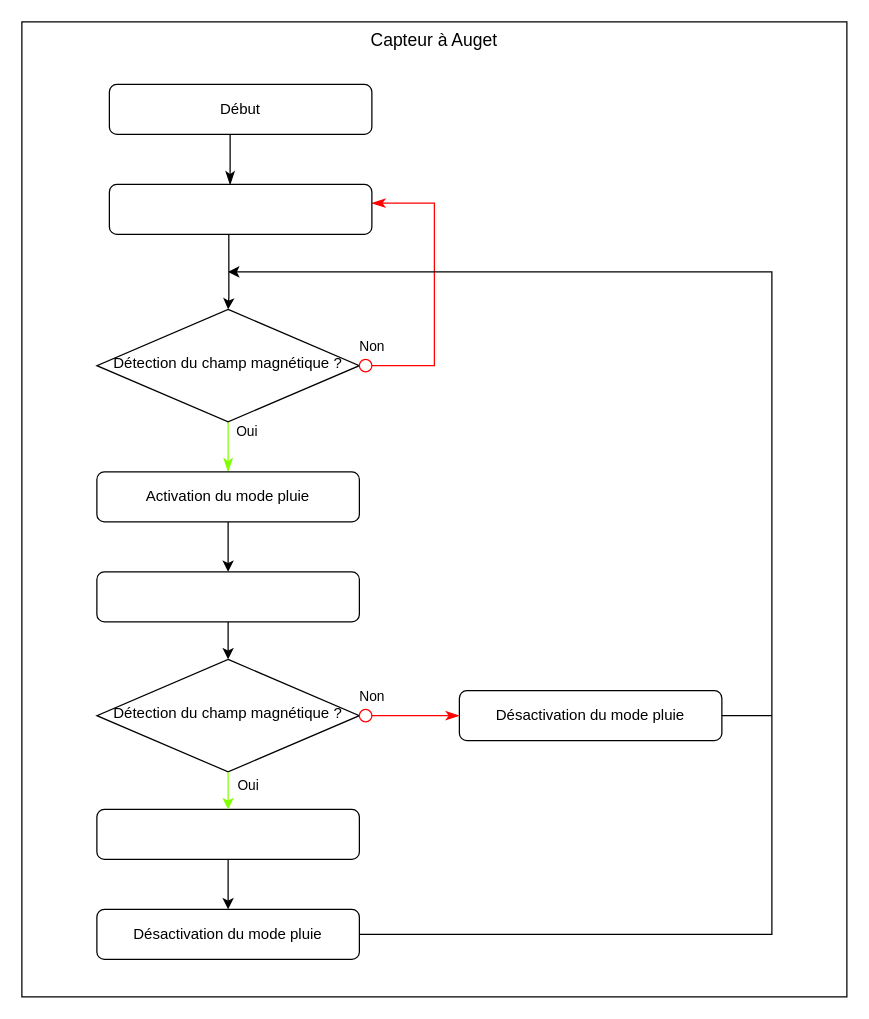
The diagram is 869 pixels wide and 1019 high, and some of its shapes have lost their labels. The box of each missing label's shape, as (x1, y1, x2, y2) in pixels:
Initialisation des variables: (108, 183, 372, 234)
Mise en place d'un minuteur de 15 minutes: (96, 571, 359, 622)
Réinitialisation du minuteur de 15 minutes: (96, 808, 359, 859)
